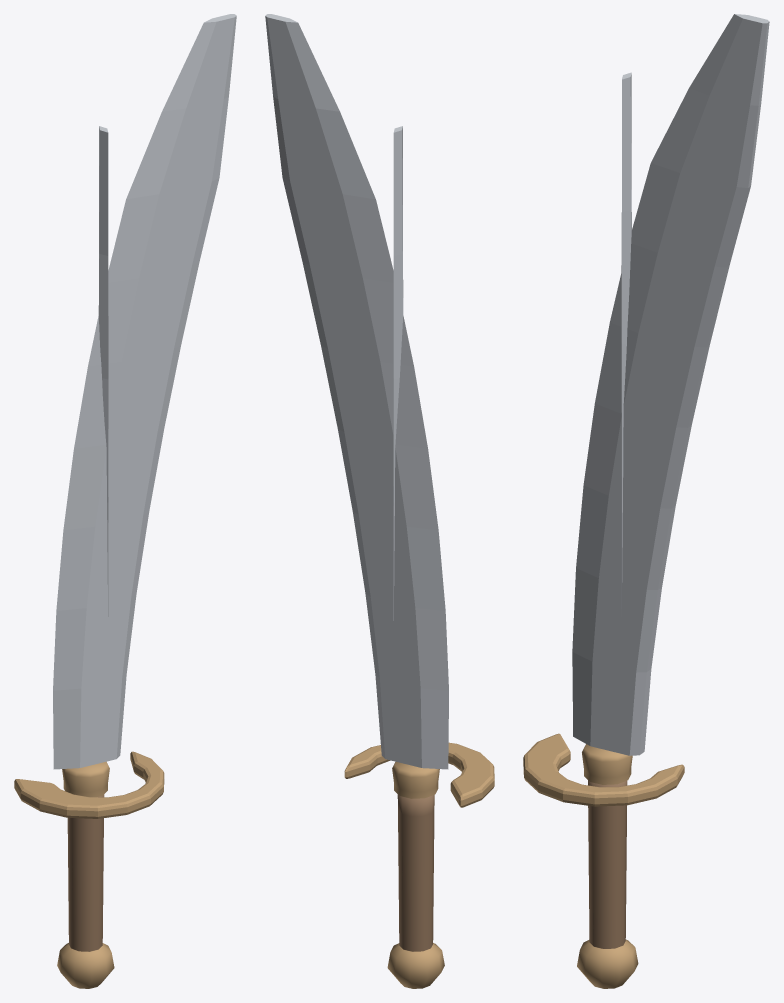
Rendered from wpn_crescent.glb.
3 renders of one model, left to right at view 1: azimuth 30°, elevation 25°; view 2: azimuth 150°, elevation 25°; view 3: azimuth 330°, elevation 25°, orthographic. The views are drawn at different scales.
Visible parts, largest first — view 1: wpn_crescent; view 2: wpn_crescent; view 3: wpn_crescent.
Part boxes in pixels (box(x1,y1,x2,y2)): wpn_crescent: box(14, 14, 236, 988); wpn_crescent: box(265, 14, 494, 988); wpn_crescent: box(523, 14, 769, 988).
Size of the model in its own units: 0.2417 by 0.998 by 0.1076.
